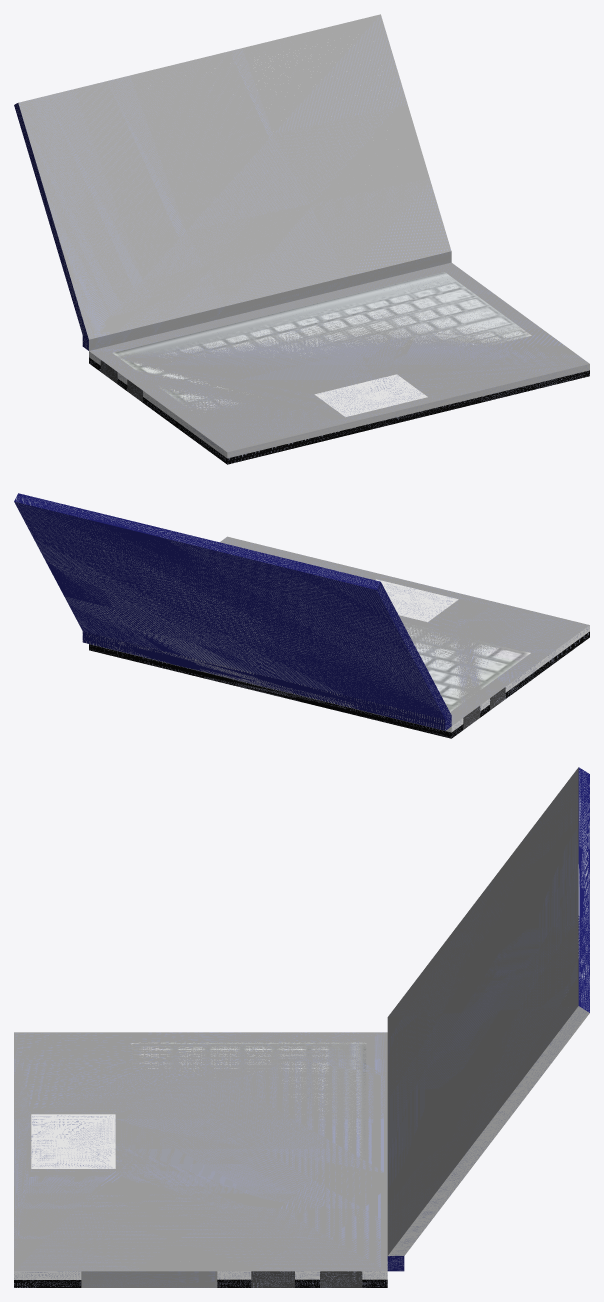
3 renders of one model, top to bottom at view 1: azimuth 30°, elevation 25°; view 2: azimuth 150°, elevation 25°; view 3: azimuth 270°, elevation 25°, orthographic. The views are drawn at different scales.
Parts seen in each view (by area): view 1: SketchUp (×6), image_1; view 2: SketchUp (×6), image_1; view 3: SketchUp (×6), image_1.
Boxes of the visible parts, x1,y1,x2,y2 form: SketchUp (×6): (14, 14, 589, 464); image_1: (112, 272, 531, 414); SketchUp (×6): (14, 493, 589, 738); image_1: (403, 622, 530, 711); SketchUp (×6): (14, 767, 589, 1287); image_1: (130, 1042, 366, 1222).
Size of the model in its own units: 145 by 148 by 79.96.
